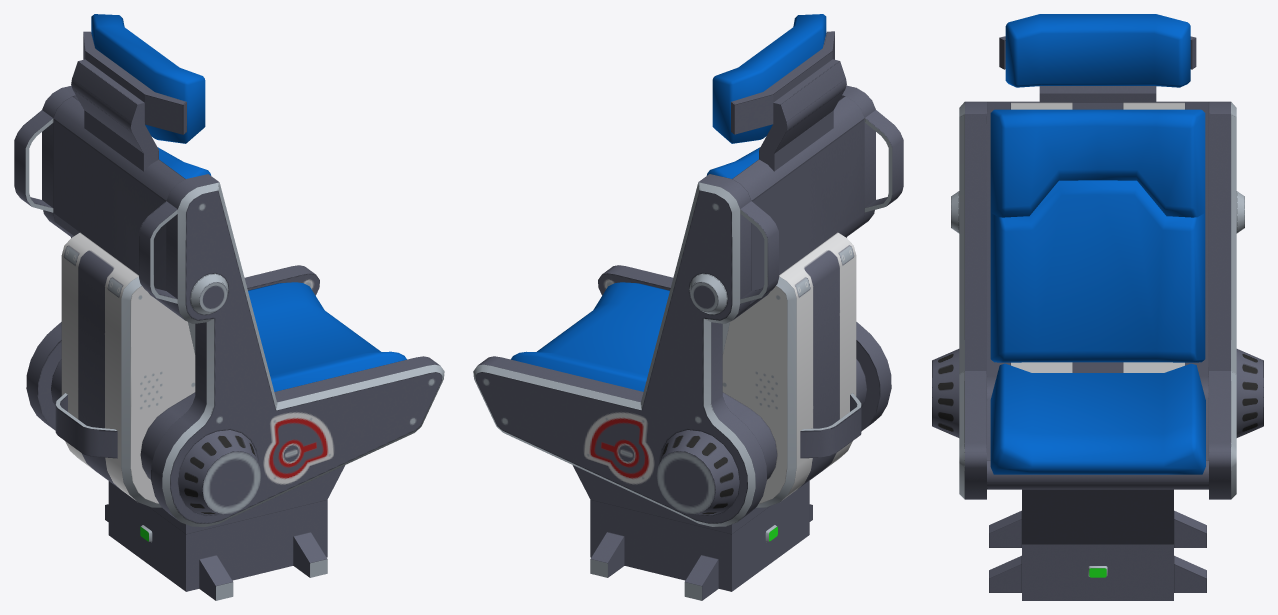
The model's file is Chair_04.FBX.
The picture shows the model from 3 angles, left to right: view 1: azimuth 30°, elevation 25°; view 2: azimuth 150°, elevation 25°; view 3: azimuth 270°, elevation 25°; orthographic projection. The views are drawn at different scales.
Visible parts, largest first — view 1: Chair_04; view 2: Chair_04; view 3: Chair_04.
Part boxes in pixels (<box>): Chair_04: <box>14,14,444,600</box>; Chair_04: <box>473,14,903,600</box>; Chair_04: <box>932,14,1263,600</box>.
Bounding box in the file's own units: 1.08 × 1.76 × 1.04.
Materials: 4 (4 with a texture image).
